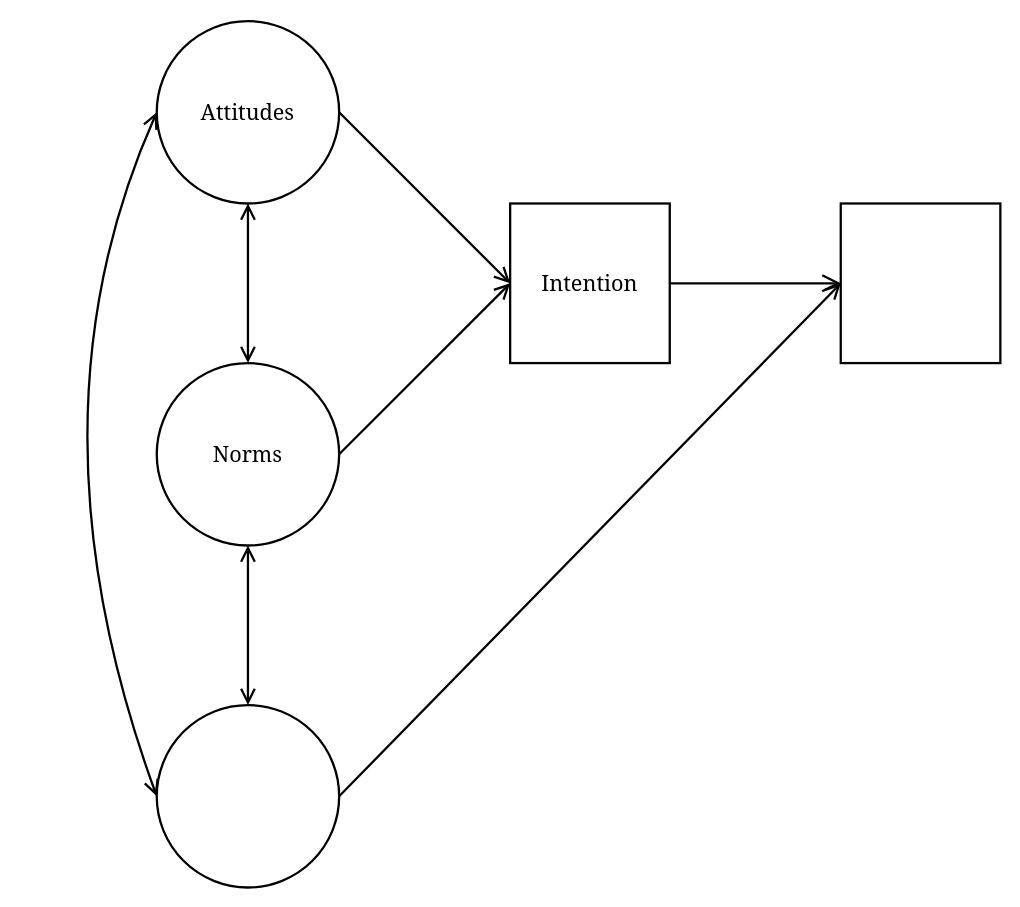
The diagram is 1020 pixels wide and 907 high, and some of its shapes have lost their labels. The shapes that lost their labels are listed below. From the top down, each one's centre as x and y in pixels, then its label:
At [920,283]: "Behavior".
At [247,795]: "Control".
